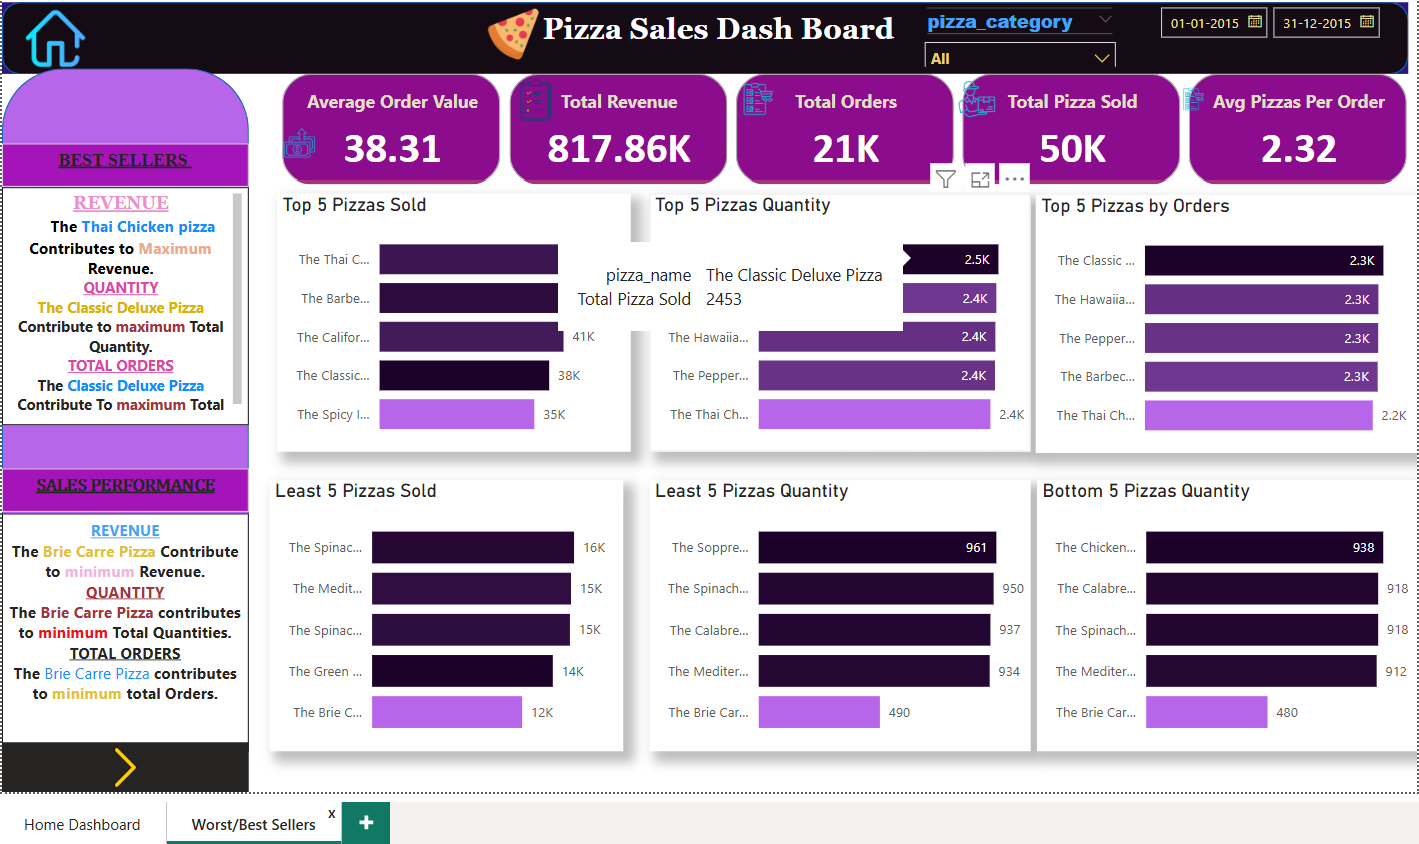

The dashboard page shown, as its layout file describes it:
{"tool":"powerbi","page":{"name":"Worst/Best Sellers","canvas":[1280,720],"ordinal":1},"visuals":[{"type":"cardVisual","fields":{"Data":["pizza_sales.Average Order Value","pizza_sales.Total Revenue","pizza_sales.Total Orders","pizza_sales.Total Pizza Sold","pizza_sales.Avg Pizzas Per Order"]},"box":[248.6,65.1,1031.4,110.5],"z":0},{"type":"image","box":[858.1,70.9,46.5,44.2],"z":1000},{"type":"image","box":[241.9,111.6,54.7,41.9],"z":2000},{"type":"image","box":[650,73.3,68.6,39.5],"z":3000},{"type":"image","box":[450,68.6,66.3,50],"z":4000},{"type":"image","box":[1034.9,77.9,86,30.2],"z":5000},{"type":"shape","box":[0,5.8,1272.1,65.1],"z":6000},{"type":"textbox","box":[454.7,9.3,387.2,59.3],"z":7000},{"type":"image","box":[422.1,5.8,81.4,58.1],"z":8000},{"type":"clusteredBarChart","title":"Top 5 Pizzas  Sold   ","fields":{"Category":["pizza_sales.pizza_name"],"Y":["pizza_sales.Total Revenue"]},"box":[248.4,178.4,319.7,233.3],"z":9000},{"type":"shape","box":[0,65.1,223.3,654.7],"z":10000},{"type":"textbox","box":[0,173.3,223.3,215.1],"z":11000},{"type":"textbox","box":[0,133.7,223.3,39.5],"z":12000},{"type":"textbox","box":[0,427.9,223.3,39.5],"z":13000},{"type":"textbox","box":[0,468.6,223.3,215.1],"z":14000},{"type":"slicer","fields":{"Values":["pizza_sales.pizza_category"]},"box":[824.4,5.8,193,58.1],"z":15000},{"type":"slicer","fields":{"Values":["pizza_sales.order_date"]},"box":[1036,0,225.6,65.1],"z":16000},{"type":"clusteredBarChart","title":"Least  5 Pizzas  Sold   ","fields":{"Category":["pizza_sales.pizza_name"],"Y":["pizza_sales.Total Revenue"]},"box":[241.5,437.7,319.7,245.6],"z":16006},{"type":"clusteredBarChart","title":"Top 5 Pizzas Quantity    ","fields":{"Category":["pizza_sales.pizza_name"],"Y":["pizza_sales.Total Pizza Sold"]},"box":[585.9,178.4,344.4,233.3],"z":16007},{"type":"clusteredBarChart","title":" Least 5 Pizzas Quantity    ","fields":{"Category":["pizza_sales.pizza_name"],"Y":["pizza_sales.Total Pizza Sold"]},"box":[585.9,437.7,344.4,245.6],"z":16008},{"type":"clusteredBarChart","title":"Top 5 Pizzas by Orders      ","fields":{"Category":["pizza_sales.pizza_name"],"Y":["pizza_sales.Total Orders"]},"box":[935.6,179.8,344.4,233.3],"z":16009},{"type":"clusteredBarChart","title":"Bottom 5 Pizzas Quantity    ","fields":{"Category":["pizza_sales.pizza_name"],"Y":["pizza_sales.Total Orders"]},"box":[935.9,437.7,344.4,245.6],"z":16010},{"type":"image","box":[0,7.2,96.1,63.6],"z":16011},{"type":"image","box":[0,674.8,223.3,45.6],"z":16012}]}

Visuals, with their boxes on the page's 1280x720 design canvas (x1, y1, x2, y2). These are canvas units, not pixel positions in the 1419x844 screenshot, which may show the page scaled, cropped or inside an application window:
cardVisual - pizza_sales.Average Order Value x pizza_sales.Total Revenue: select_region(249, 65, 1280, 176)
image: select_region(858, 71, 905, 115)
image: select_region(242, 112, 297, 154)
image: select_region(650, 73, 719, 113)
image: select_region(450, 69, 516, 119)
image: select_region(1035, 78, 1121, 108)
shape: select_region(0, 6, 1272, 71)
textbox: select_region(455, 9, 842, 69)
image: select_region(422, 6, 504, 64)
"Top 5 Pizzas  Sold   " clusteredBarChart: select_region(248, 178, 568, 412)
shape: select_region(0, 65, 223, 720)
textbox: select_region(0, 173, 223, 388)
textbox: select_region(0, 134, 223, 173)
textbox: select_region(0, 428, 223, 467)
textbox: select_region(0, 469, 223, 684)
slicer - pizza_sales.pizza_category: select_region(824, 6, 1017, 64)
slicer - pizza_sales.order_date: select_region(1036, 0, 1262, 65)
"Least  5 Pizzas  Sold   " clusteredBarChart: select_region(242, 438, 561, 683)
"Top 5 Pizzas Quantity    " clusteredBarChart: select_region(586, 178, 930, 412)
" Least 5 Pizzas Quantity    " clusteredBarChart: select_region(586, 438, 930, 683)
"Top 5 Pizzas by Orders      " clusteredBarChart: select_region(936, 180, 1280, 413)
"Bottom 5 Pizzas Quantity    " clusteredBarChart: select_region(936, 438, 1280, 683)
image: select_region(0, 7, 96, 71)
image: select_region(0, 675, 223, 720)
